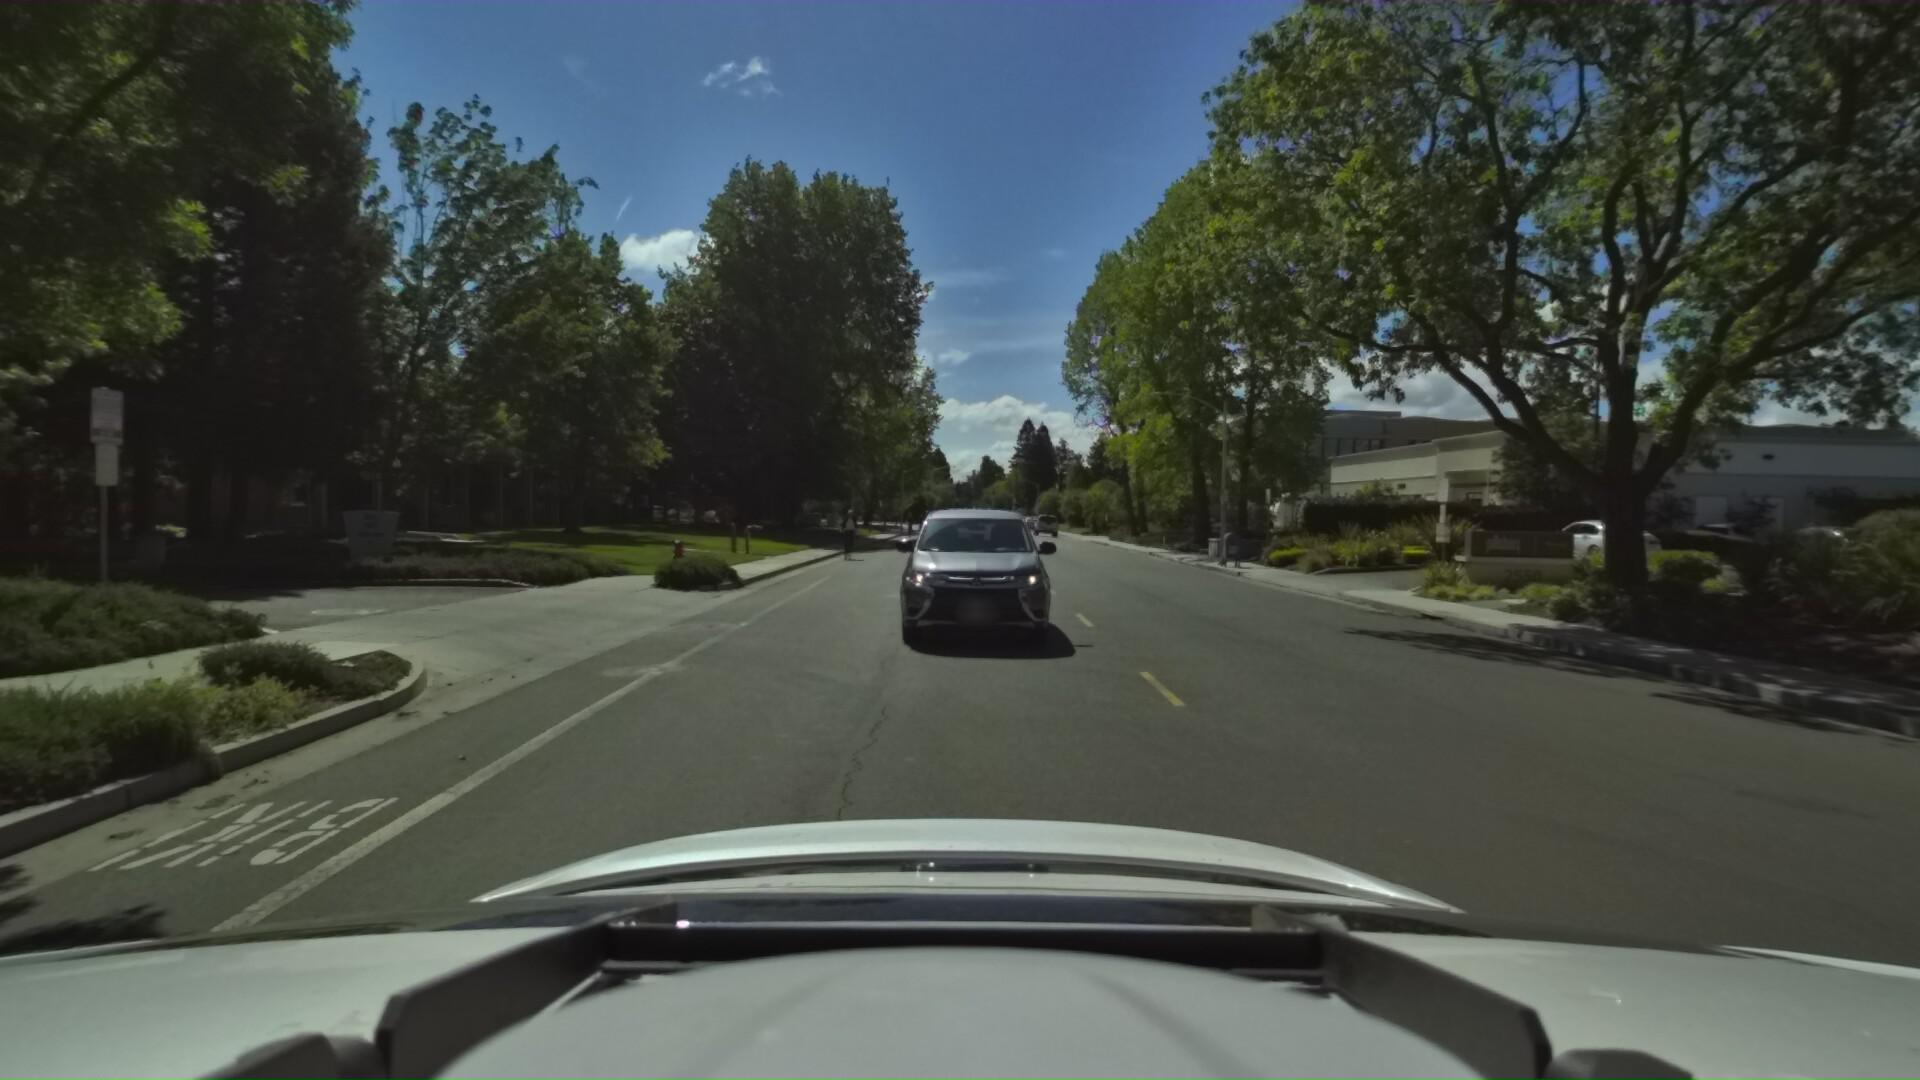bicycle: (825, 506, 858, 562), (899, 509, 913, 535)
car: (878, 502, 1065, 671), (1031, 510, 1059, 534)
